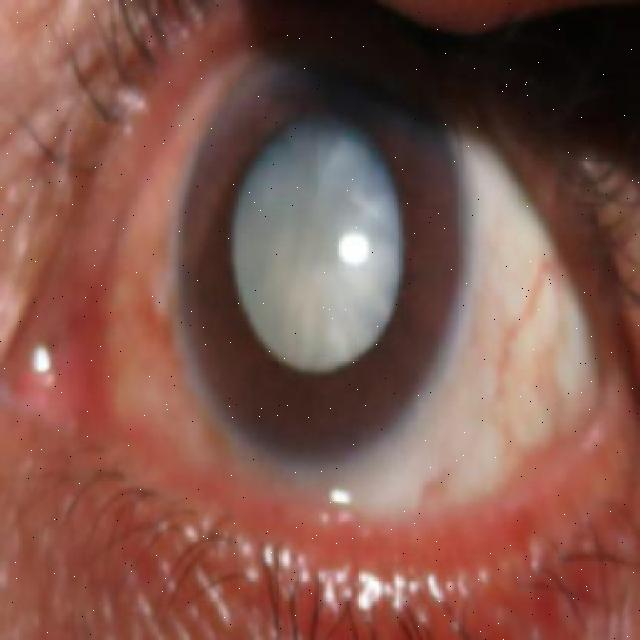Cataract: (170, 31, 475, 464)
